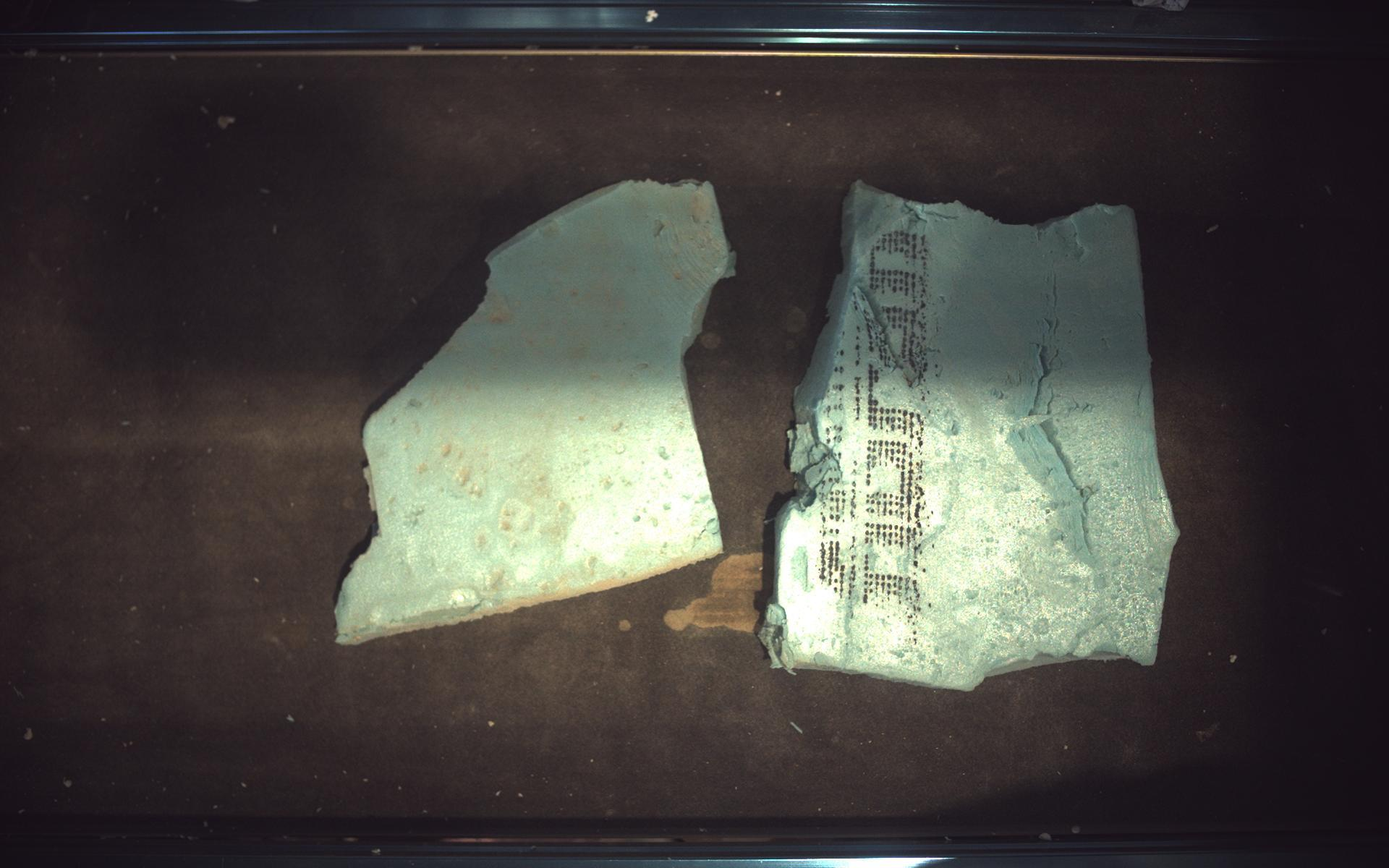foam: (762, 182, 1181, 691), (336, 180, 736, 645)
